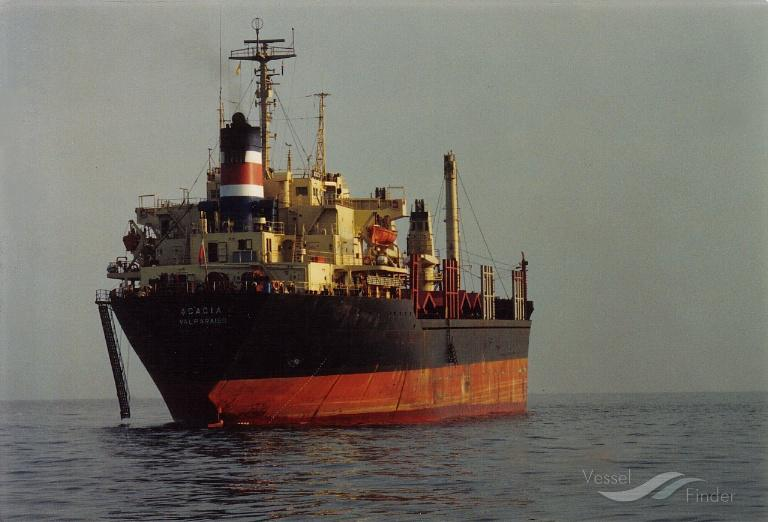OCR: (167, 298, 234, 332)
